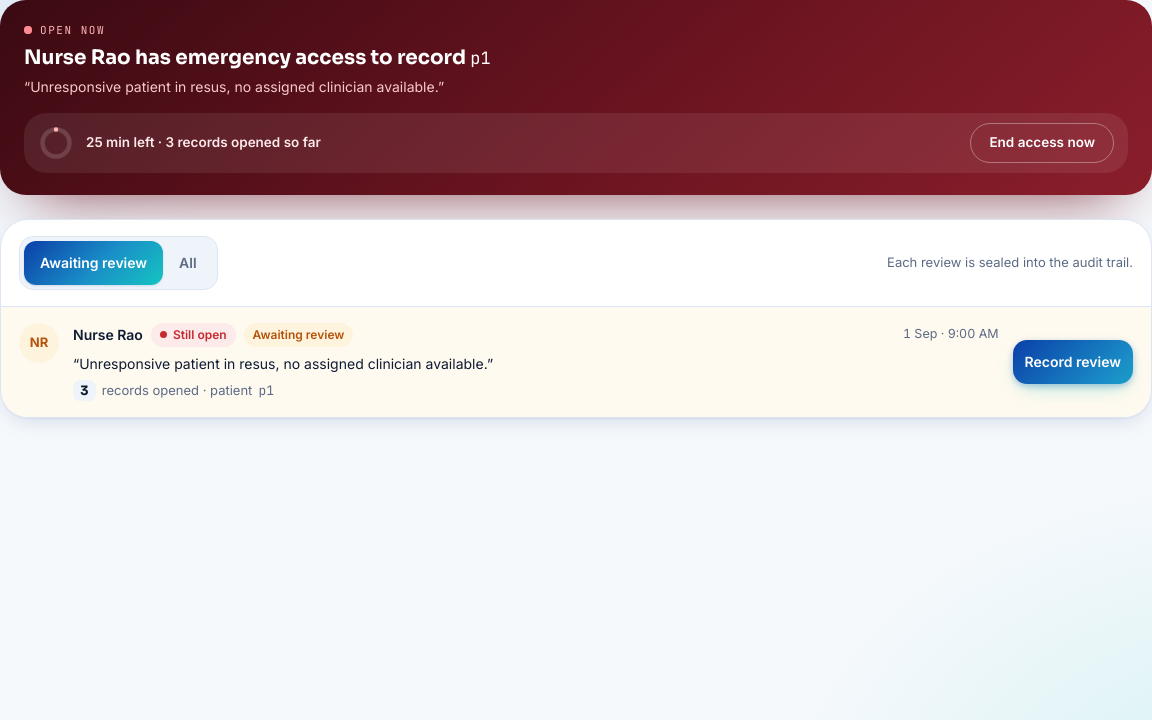
Test: the review queue › requires notes before a review can be recorded
Click the button "Record review" at coordinates (1073, 362), box [1013,340,1133,384]
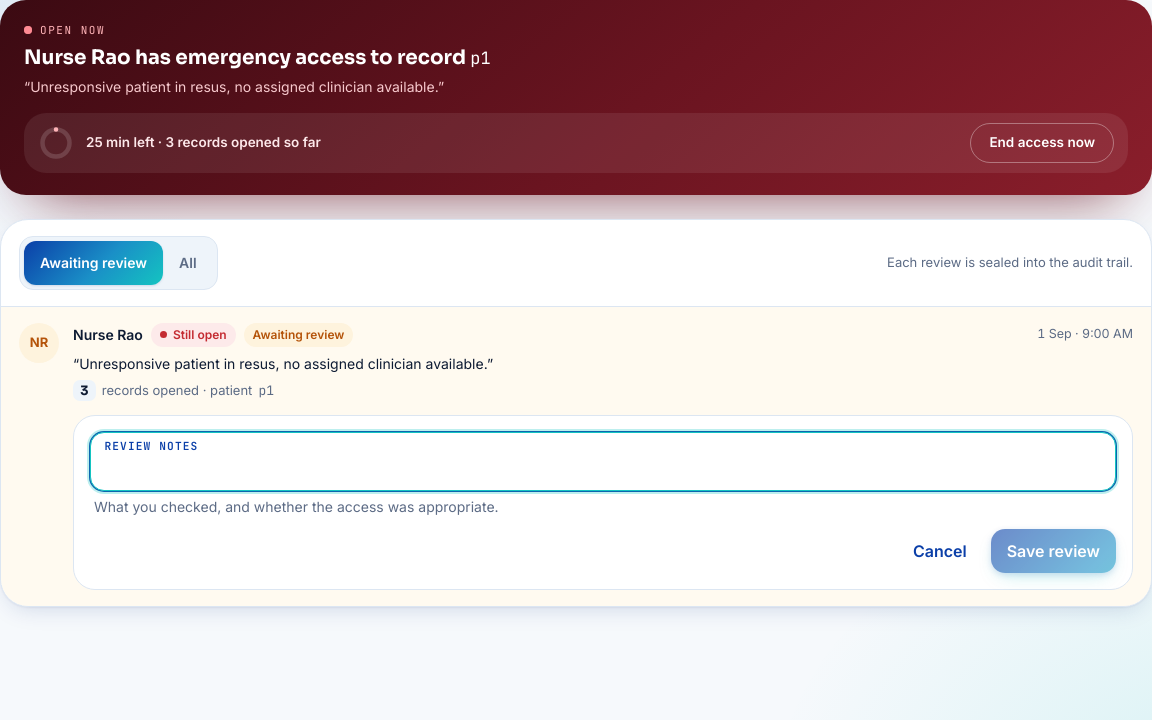
Check: the button "Save review" is disabled, box [991,529,1116,573]
Type "Checked against the resus log." into the field labelled "Review notes" at coordinates (603, 461), box [90,432,1116,491]
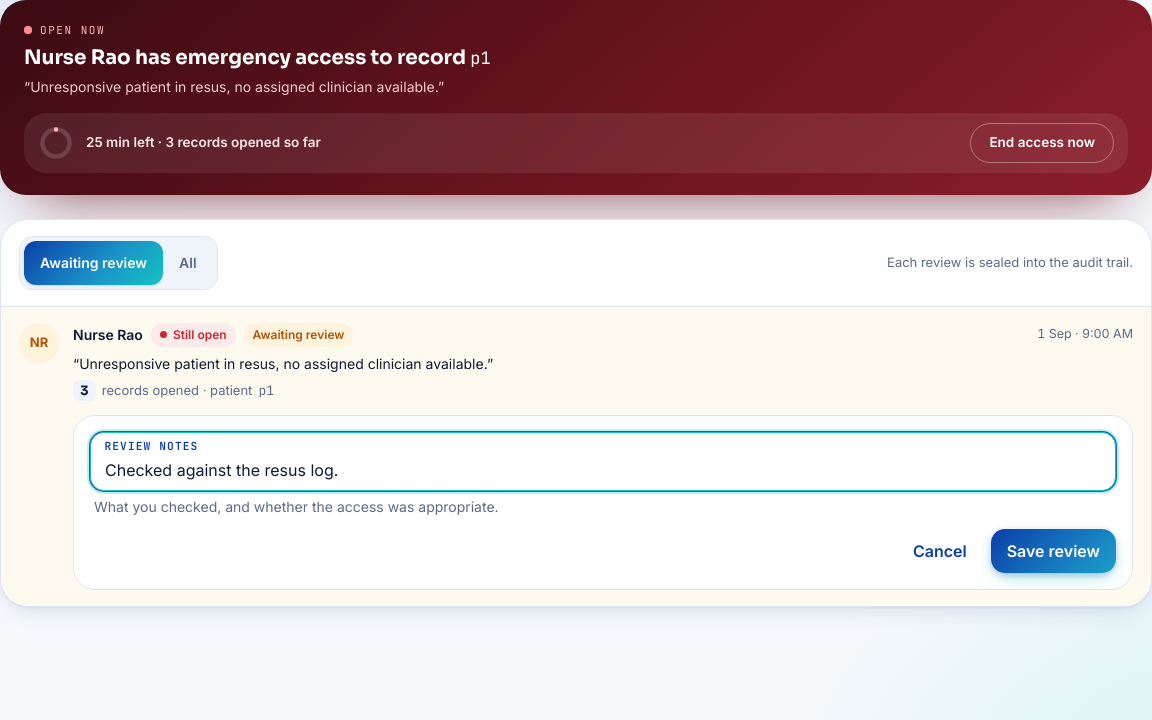
Check: the button "Save review" is enabled, box [991,529,1116,573]
